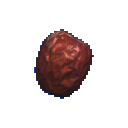gd: (21, 14, 98, 112)
